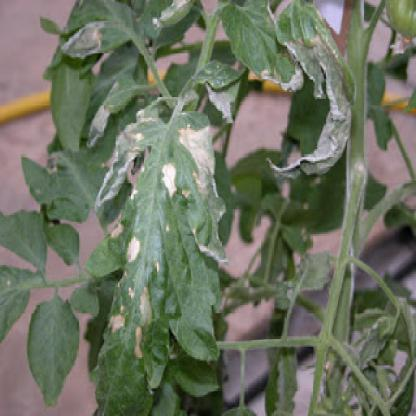Tomato leaf bacterial spot: (87, 99, 228, 411)
